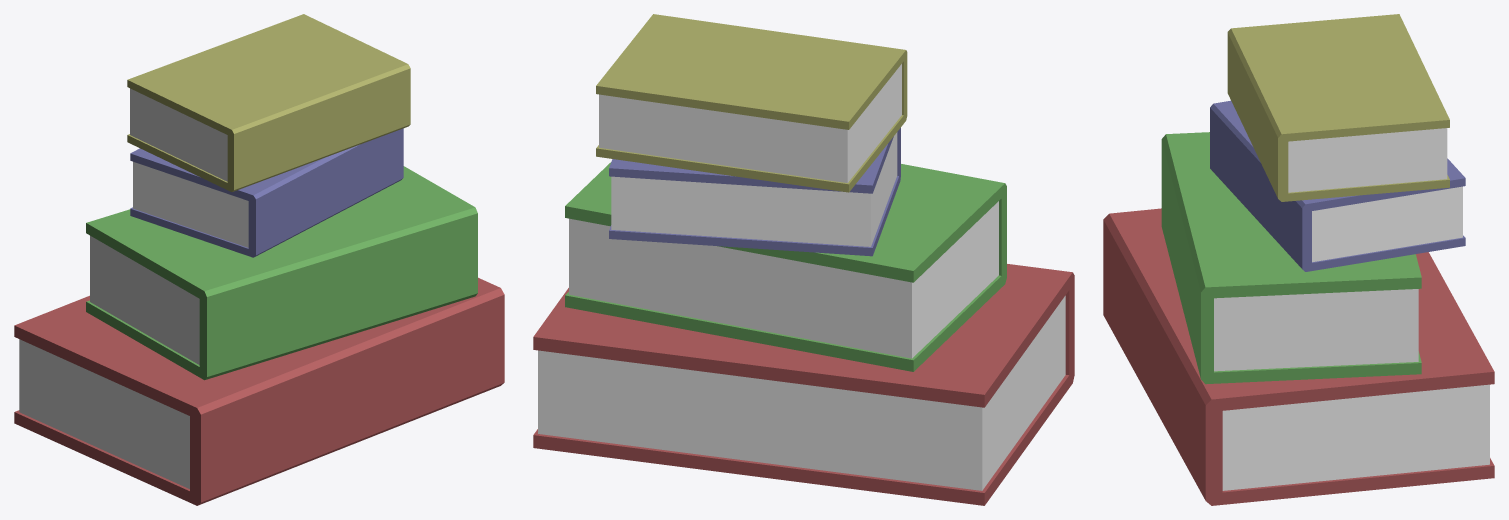
File: books_ondesk.glb
The picture shows the model from 3 angles, left to right: view 1: azimuth 30°, elevation 25°; view 2: azimuth 150°, elevation 25°; view 3: azimuth 270°, elevation 25°; orthographic projection. The views are drawn at different scales.
Parts seen in each view (by area): view 1: books_ondesk; view 2: books_ondesk; view 3: books_ondesk.
Part boxes in pixels (box(x1,y1,x2,y2)): books_ondesk: box(14, 14, 504, 505); books_ondesk: box(533, 14, 1074, 505); books_ondesk: box(1103, 14, 1494, 505).
Size of the model in its own units: 0.4461 by 0.3298 by 0.3441.
